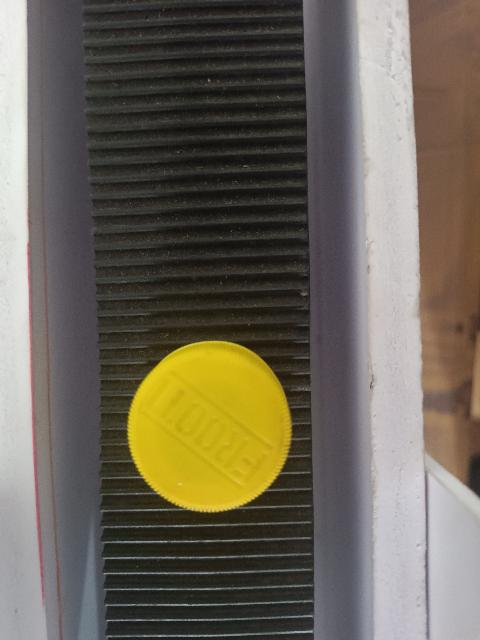bottlecap: (126, 336, 294, 520)
